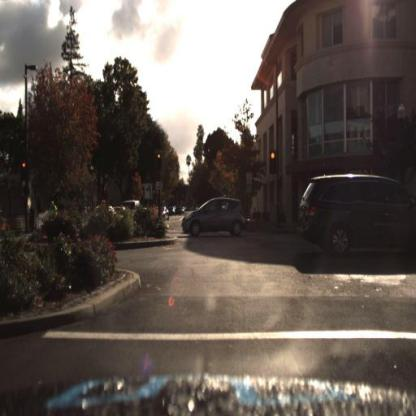car: (298, 175, 416, 260), (181, 190, 249, 249), (180, 194, 248, 243), (120, 199, 145, 227)
trafficLight-Red: (269, 145, 278, 171), (21, 156, 29, 175), (156, 145, 163, 166)
